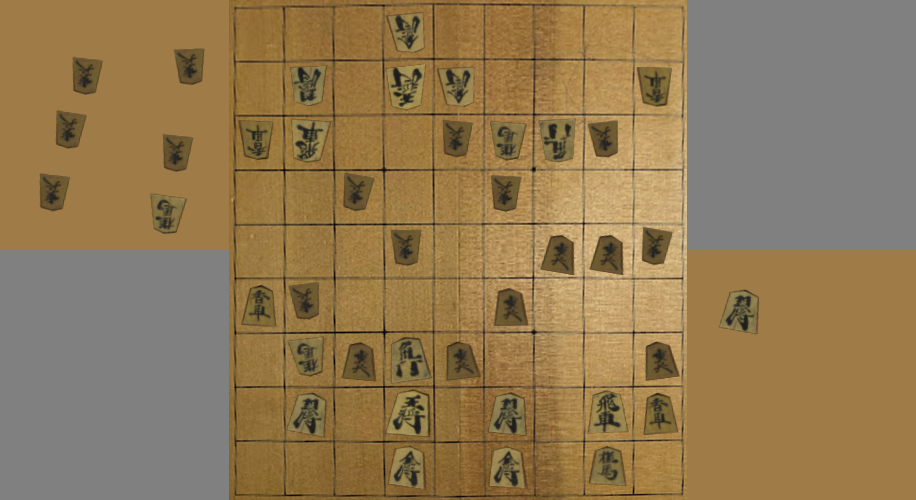A: (336, 336, 383, 387), (387, 391, 428, 436), (392, 338, 429, 382), (589, 391, 626, 433), (290, 394, 325, 436), (490, 394, 525, 435), (242, 285, 276, 327), (390, 447, 424, 489), (590, 447, 625, 485), (490, 448, 524, 487), (644, 394, 677, 433), (591, 236, 623, 275), (541, 236, 573, 274), (447, 343, 479, 380), (646, 343, 678, 380), (495, 289, 527, 325)
B: (387, 65, 424, 109), (293, 120, 329, 162), (540, 119, 574, 161), (288, 337, 323, 376), (491, 122, 526, 160), (291, 66, 325, 105), (638, 67, 671, 106), (240, 121, 272, 160), (440, 69, 473, 106), (390, 15, 422, 51), (589, 121, 618, 157), (290, 283, 319, 319), (643, 228, 671, 264), (344, 175, 372, 211), (444, 121, 472, 156), (492, 176, 520, 211), (392, 231, 420, 265)
C: (720, 290, 758, 334)
D: (151, 194, 186, 234), (57, 111, 85, 148), (41, 174, 69, 211), (73, 58, 101, 94), (174, 50, 203, 84), (165, 135, 192, 171)
